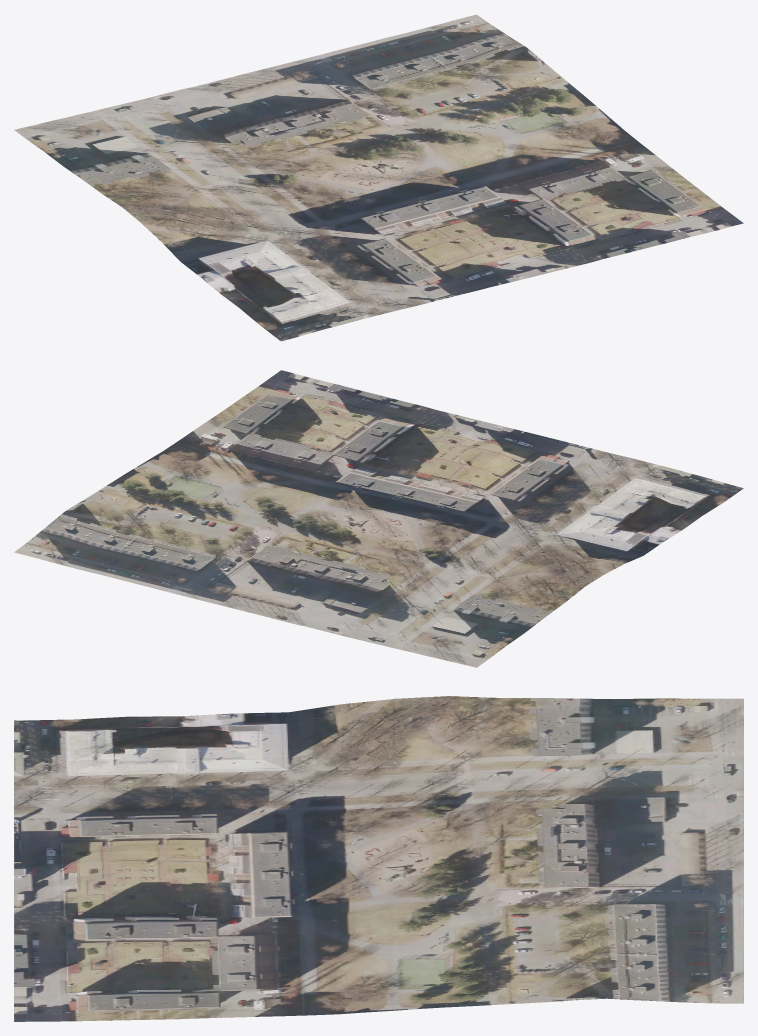
Rendered from CM_Terrain_24488206_6821636.FBX.
3 renders of one model, top to bottom at view 1: azimuth 30°, elevation 25°; view 2: azimuth 150°, elevation 25°; view 3: azimuth 270°, elevation 25°, orthographic. The views are drawn at different scales.
Visible parts, largest first — view 1: CM_Terrain_24488206_6821636_LOD0; view 2: CM_Terrain_24488206_6821636_LOD0; view 3: CM_Terrain_24488206_6821636_LOD0.
Boxes of the visible parts, x1,y1,x2,y2 form: CM_Terrain_24488206_6821636_LOD0: [14, 14, 743, 341]; CM_Terrain_24488206_6821636_LOD0: [14, 370, 743, 667]; CM_Terrain_24488206_6821636_LOD0: [14, 696, 743, 1021].
Size of what is drawn, in the model's own units: 205 by 9.38 by 205.
